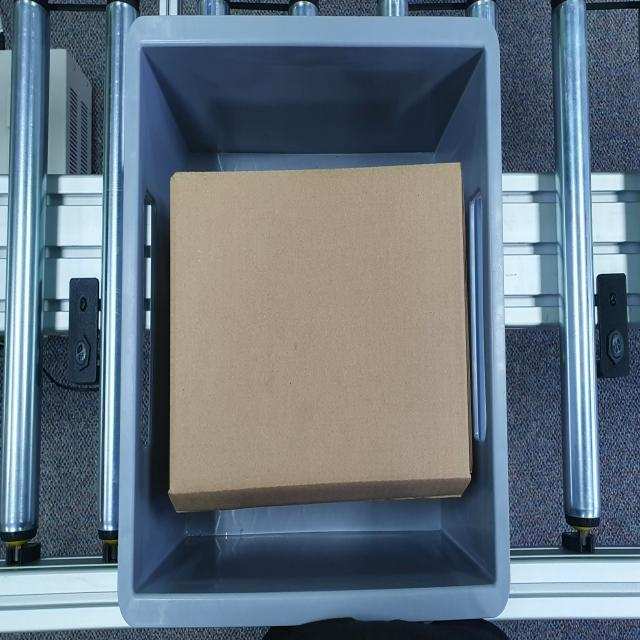box: (169, 166, 474, 496)
